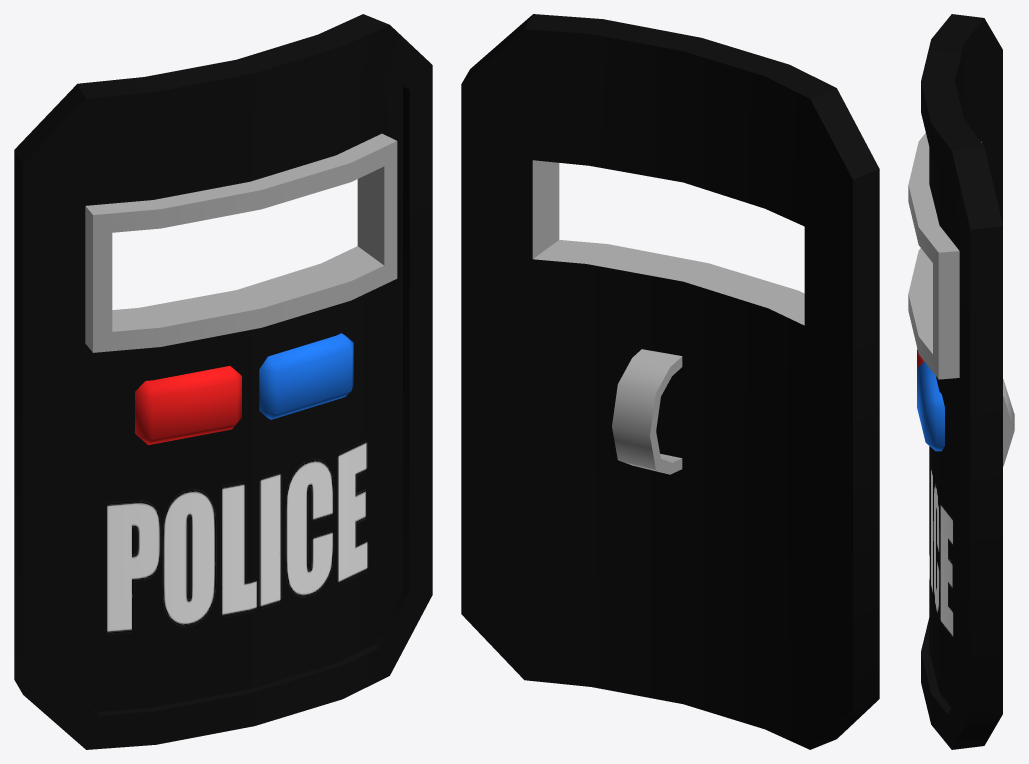
File: Shield_1.fbx
3 renders of one model, left to right at view 1: azimuth 30°, elevation 25°; view 2: azimuth 150°, elevation 25°; view 3: azimuth 270°, elevation 25°, orthographic. The views are drawn at different scales.
Visible parts, largest first — view 1: Shield_1; view 2: Shield_1; view 3: Shield_1.
Part boxes in pixels (x1,y1,x2,y2): Shield_1: (14, 14, 432, 749); Shield_1: (461, 14, 879, 749); Shield_1: (908, 14, 1014, 749).
Bounding box in the file's own units: 2.69 × 4.1 × 0.656.
